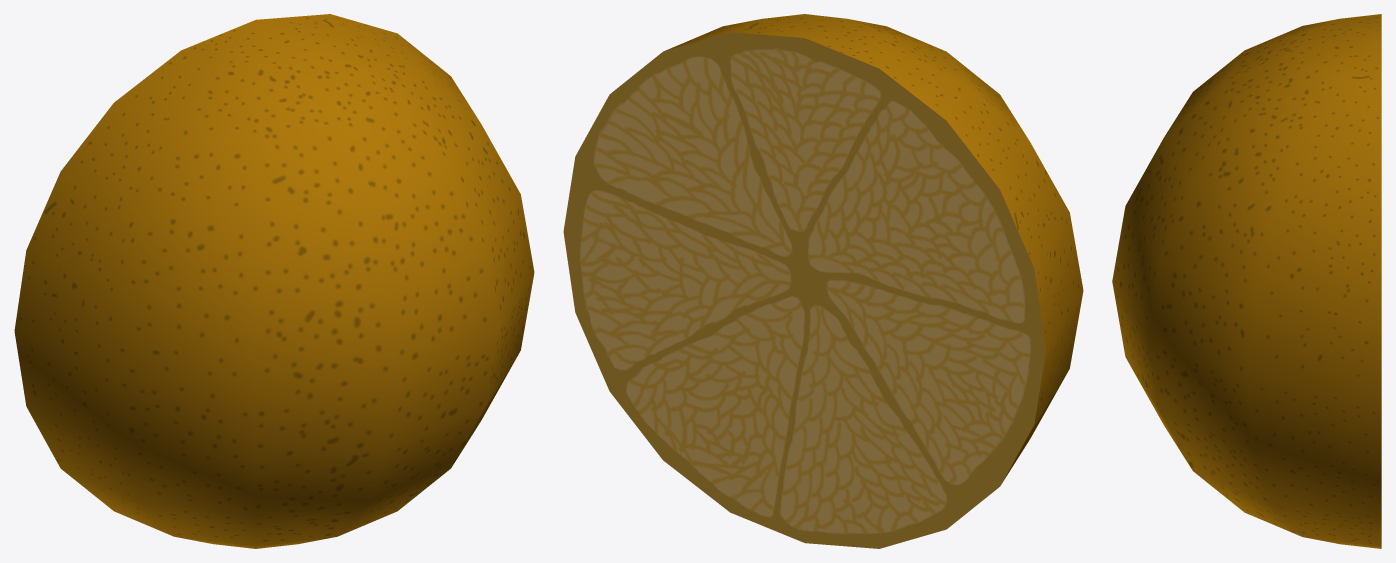
Rendered from Naranaja-1_2.obj.
3 renders of one model, left to right at view 1: azimuth 30°, elevation 25°; view 2: azimuth 150°, elevation 25°; view 3: azimuth 270°, elevation 25°, orthographic. The views are drawn at different scales.
Visible parts, largest first — view 1: Naranaja-1_2_Sphere; view 2: Naranaja-1_2_Sphere; view 3: Naranaja-1_2_Sphere.
Boxes of the visible parts, <box> form: Naranaja-1_2_Sphere: <box>14,14,534,548</box>; Naranaja-1_2_Sphere: <box>563,14,1083,548</box>; Naranaja-1_2_Sphere: <box>1112,14,1381,548</box>.
Size of the model in its own units: 2 by 2 by 1.
1 material, 1 textured.
